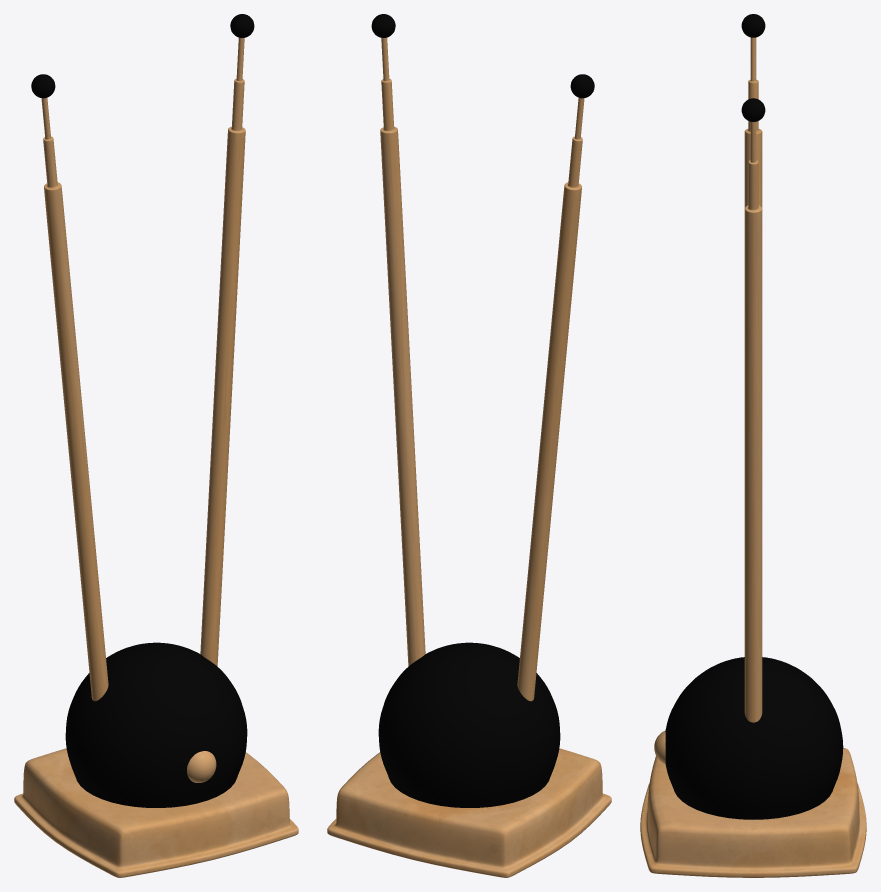
Rendered from antenna.glb.
3 views of the same model, side by side, from view 1: azimuth 30°, elevation 25°; view 2: azimuth 150°, elevation 25°; view 3: azimuth 270°, elevation 25° (orthographic).
Visible parts, largest first — view 1: antenna_highPoly bevel, antenna_highPoly platform, antenna_L antenna_highPoly pole_L, antenna_highPoly antenna_R pole_R, antenna_highPoly button; view 2: antenna_highPoly bevel, antenna_highPoly platform, antenna_L antenna_highPoly pole_L, antenna_highPoly antenna_R pole_R; view 3: antenna_highPoly bevel, antenna_highPoly platform, antenna_L antenna_highPoly pole_L, antenna_highPoly antenna_R pole_R, tip_L antenna_L antenna_highPoly, antenna_highPoly tip_R antenna_R.
Part boxes in pixels (box(x1,y1,x2,y2)): antenna_highPoly bevel: box(65, 642, 247, 807); antenna_highPoly platform: box(14, 748, 298, 877); antenna_L antenna_highPoly pole_L: box(200, 37, 245, 666); antenna_highPoly antenna_R pole_R: box(41, 98, 108, 701); antenna_highPoly button: box(187, 751, 216, 782); antenna_highPoly bevel: box(378, 642, 560, 807); antenna_highPoly platform: box(327, 748, 611, 877); antenna_L antenna_highPoly pole_L: box(380, 37, 425, 666); antenna_highPoly antenna_R pole_R: box(517, 98, 584, 701); antenna_highPoly bevel: box(665, 657, 843, 819); antenna_highPoly platform: box(640, 748, 866, 877); antenna_L antenna_highPoly pole_L: box(744, 122, 762, 722); antenna_highPoly antenna_R pole_R: box(744, 37, 762, 207); tip_L antenna_L antenna_highPoly: box(741, 98, 765, 121); antenna_highPoly tip_R antenna_R: box(741, 14, 765, 37).
Bounding box in the file's own units: 0.0079 × 0.0263 × 0.00699.
Materials: 2 (2 with a texture image).
